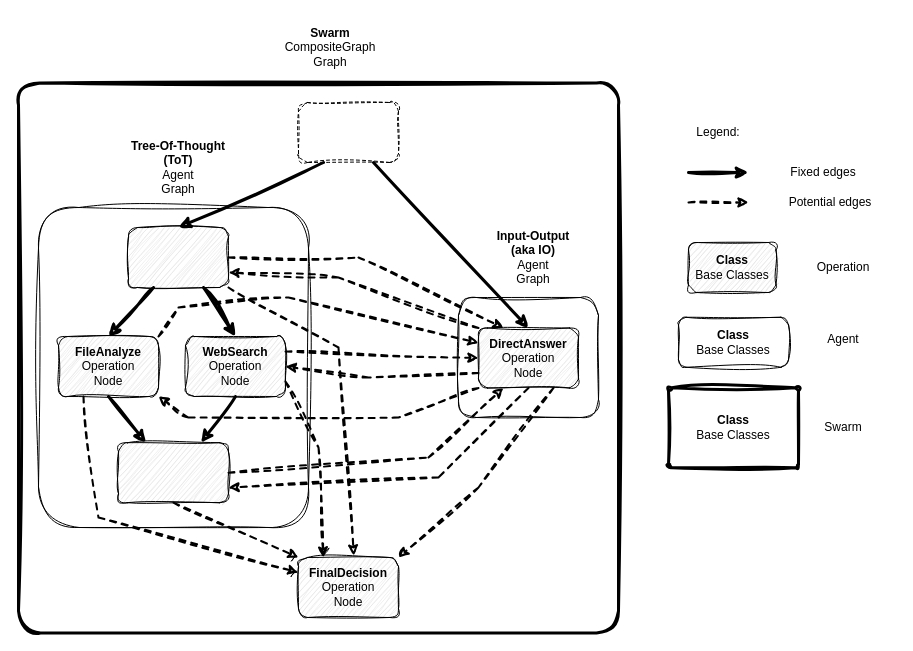
Some shapes in this 913 by 651 pixel diagram are drawn without their labels. Here are the shapes that lost their labels. From the top down, the centre of each, then its label:
[348,132]: Reference to all agents' input nodes
[178,257]: GenerateQuery Operation Node
[173,472]: CombineAnswer Operation Node
